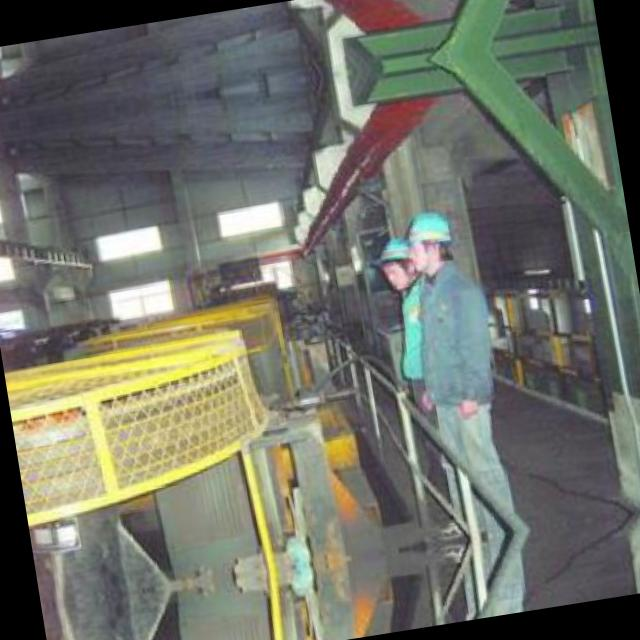helmet: (403, 204, 458, 278), (374, 233, 416, 290)
